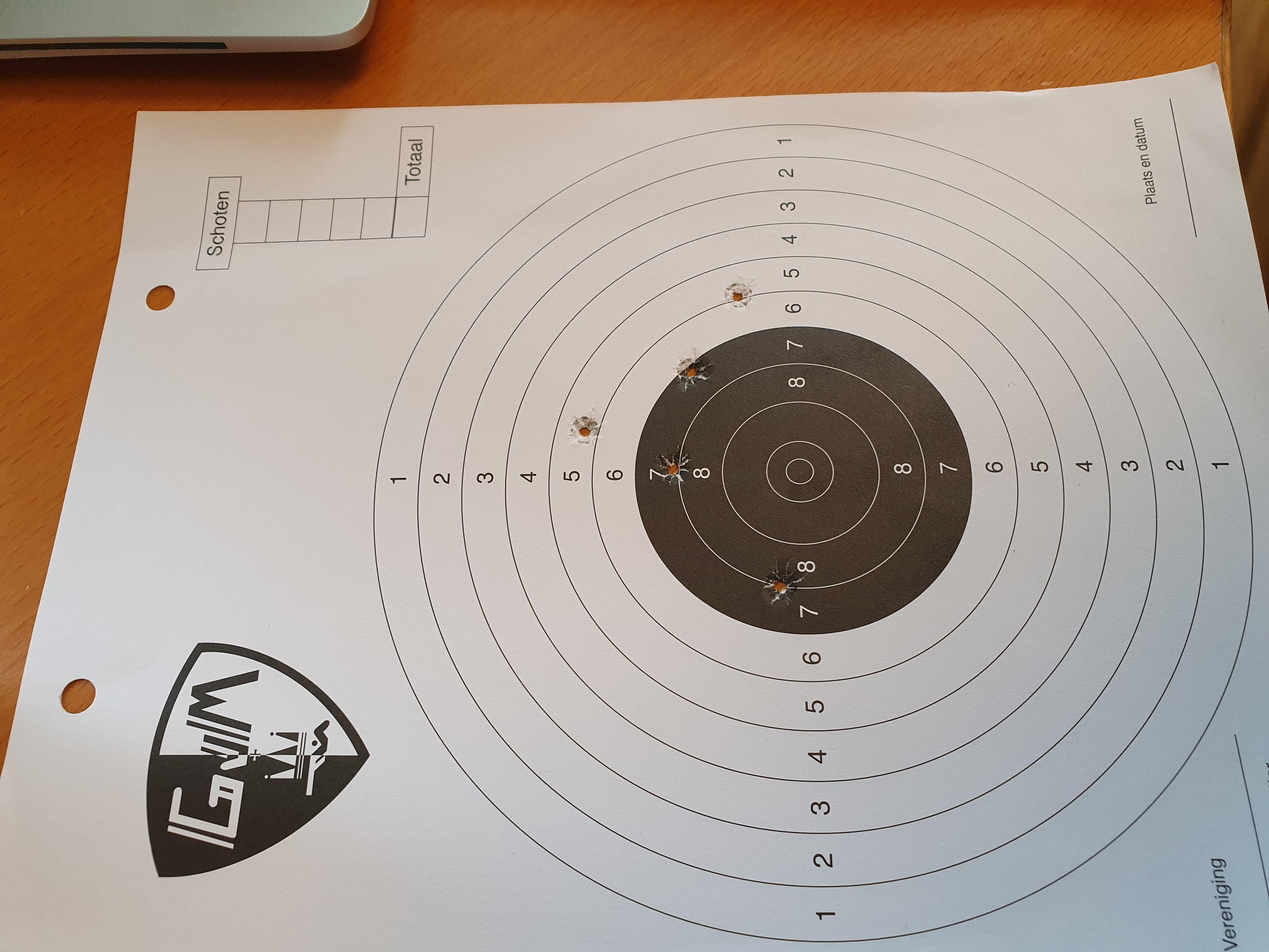hole: (464, 568, 523, 601), (670, 426, 728, 455), (616, 489, 672, 519), (853, 539, 902, 570), (749, 506, 801, 535)
